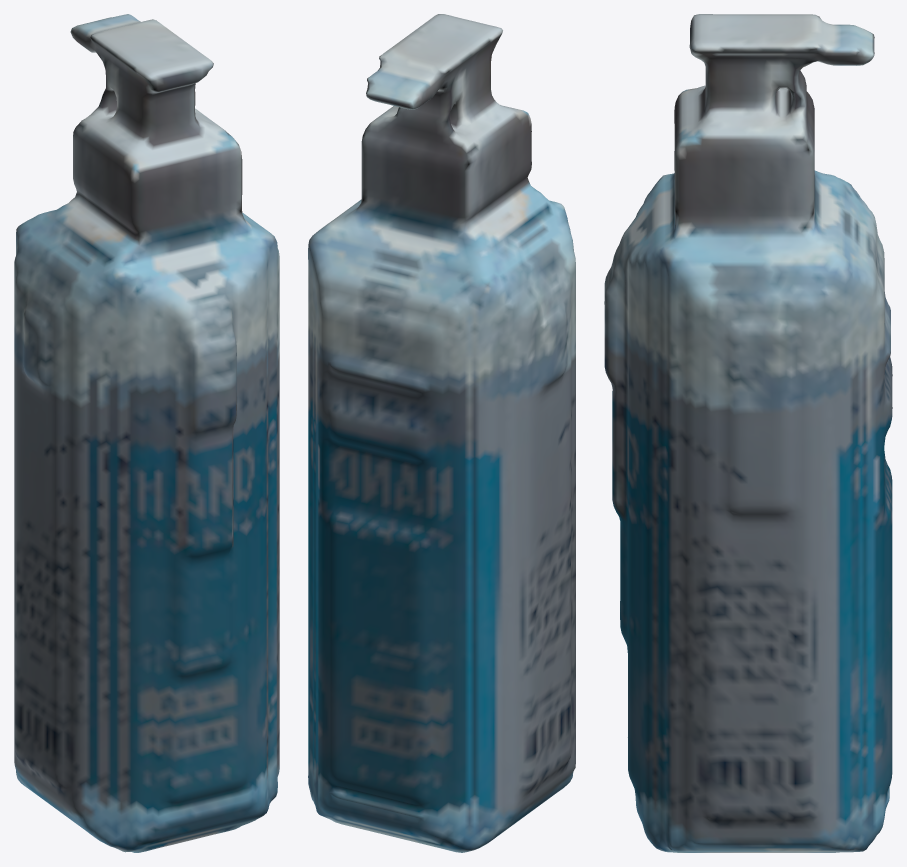
Rendered from model_c40e9141-a3a1-44a4-856b-6095b1ffad2b (1).glb.
3 renders of one model, left to right at view 1: azimuth 30°, elevation 25°; view 2: azimuth 150°, elevation 25°; view 3: azimuth 270°, elevation 25°, orthographic. The views are drawn at different scales.
Visible parts, largest first — view 1: world; view 2: world; view 3: world.
Boxes of the visible parts, box(x1,y1,x2,y2) form: world: box(14, 14, 279, 852); world: box(308, 14, 575, 852); world: box(604, 14, 892, 852).
Bounding box in the file's own units: 36.08 × 115 × 37.1.
